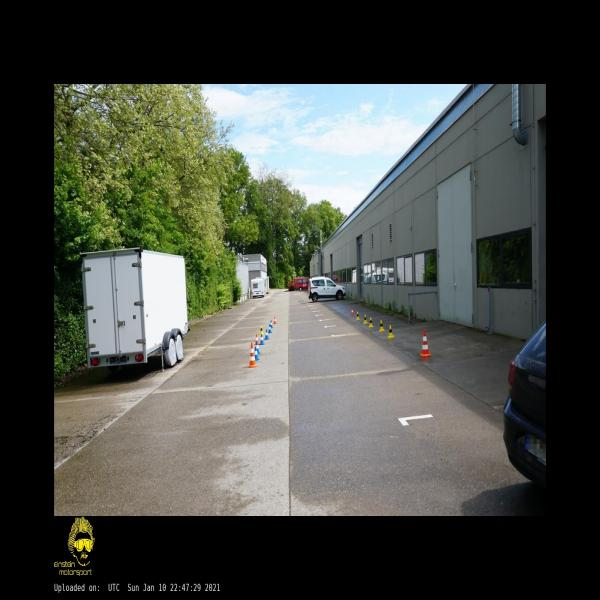blue_cone: (254, 346, 260, 360), (264, 328, 270, 340), (256, 341, 260, 354), (260, 334, 264, 345), (268, 324, 272, 334), (271, 320, 273, 328)
large_orange_cone: (419, 329, 432, 358), (248, 342, 257, 368)
orange_cone: (254, 334, 259, 345), (351, 308, 355, 316), (273, 317, 277, 324)
yellow_cone: (388, 326, 394, 338), (379, 320, 385, 332), (363, 314, 368, 324), (259, 325, 264, 335), (369, 316, 373, 327), (356, 312, 360, 320)
